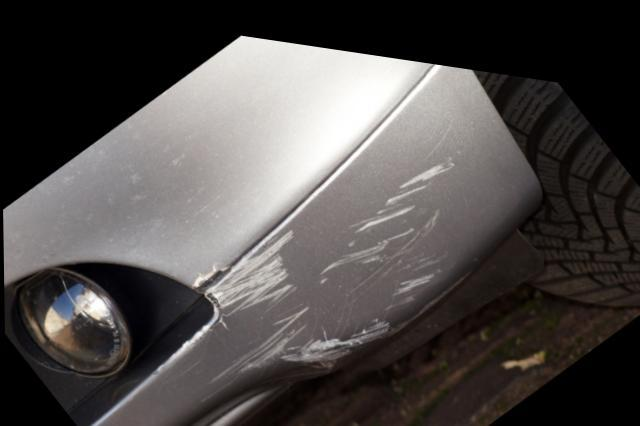scratch: (191, 135, 478, 386)
